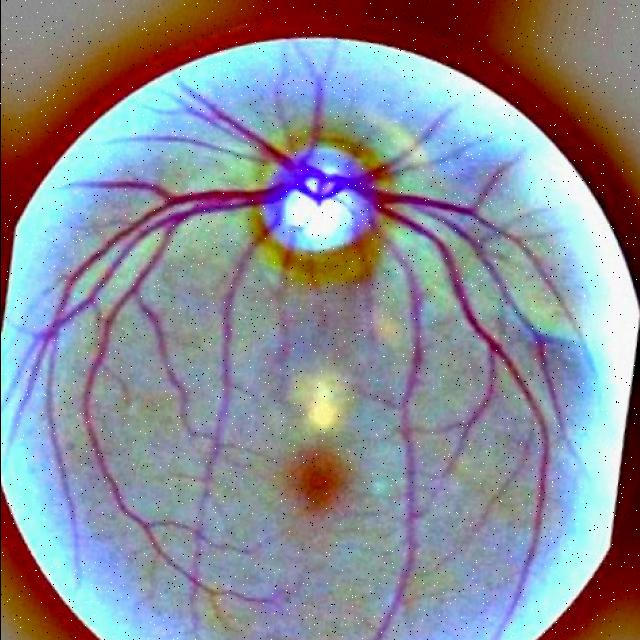Macula: (271, 441, 363, 527)
Nerves: (296, 168, 575, 640), (28, 178, 305, 596), (177, 242, 265, 640), (366, 250, 423, 640)
Optic Disk: (241, 125, 391, 282)
